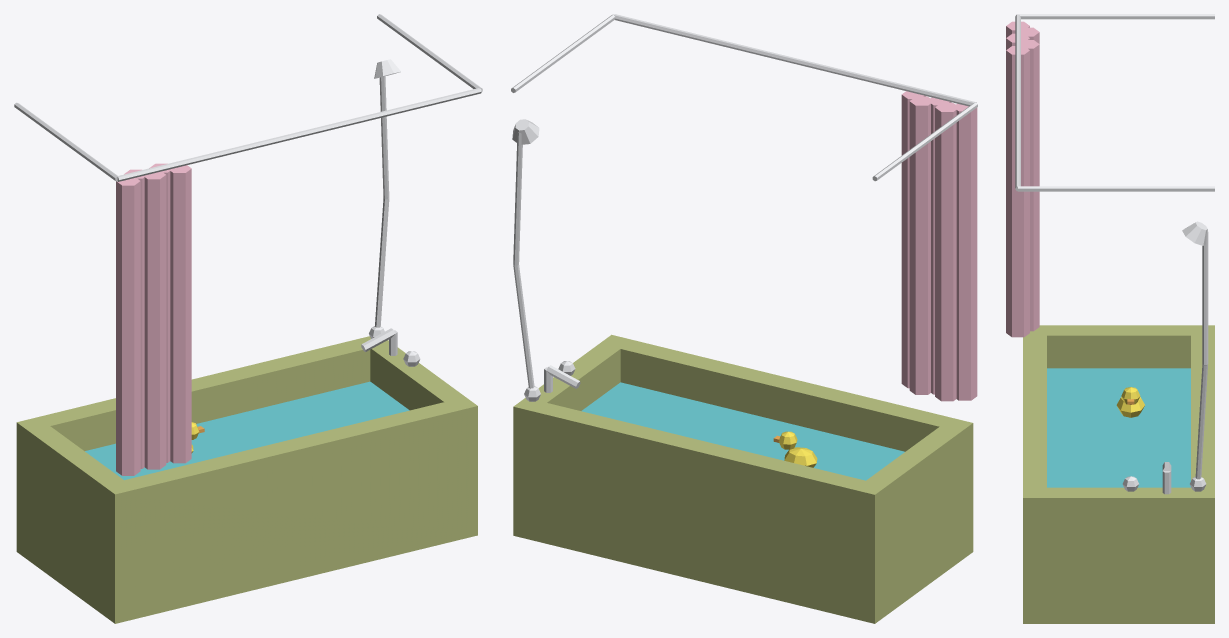
The model's file is HJ_Banera.fbx.
The picture shows the model from 3 angles, left to right: view 1: azimuth 30°, elevation 25°; view 2: azimuth 150°, elevation 25°; view 3: azimuth 270°, elevation 25°; orthographic projection. The views are drawn at different scales.
Visible parts, largest first — view 1: HJ_Banera; view 2: HJ_Banera; view 3: HJ_Banera.
Part boxes in pixels (box(x1,y1,x2,y2)): HJ_Banera: box(14, 14, 482, 623); HJ_Banera: box(511, 14, 977, 623); HJ_Banera: box(1006, 14, 1214, 623).
Size of the model in its own units: 1.76 by 2.01 by 0.87.
